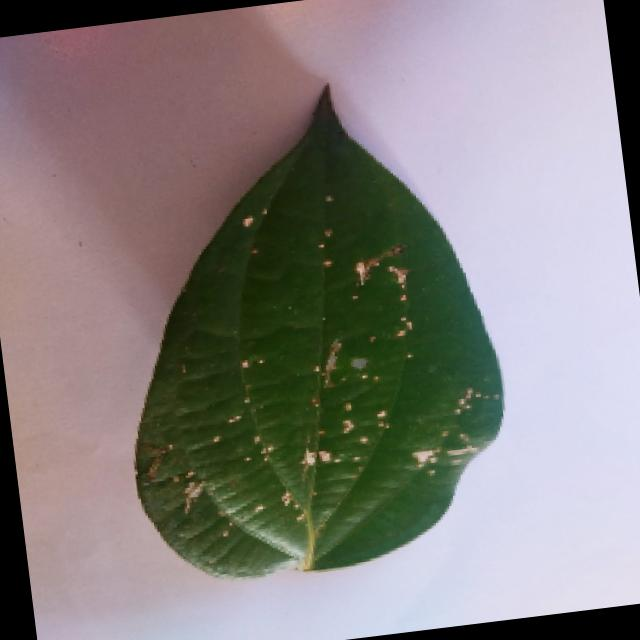pollu-disease: (89, 71, 522, 598)
